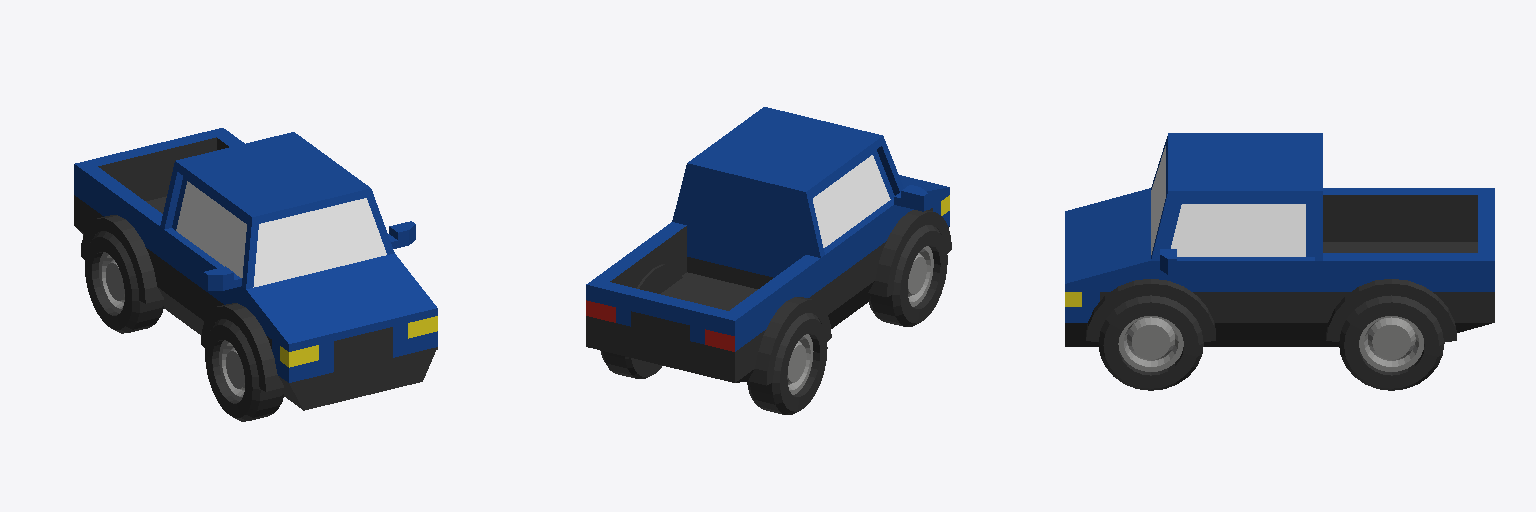
The model's file is pickup_truck_blue.obj.
3 renders of one model, left to right at view 1: azimuth 30°, elevation 25°; view 2: azimuth 150°, elevation 25°; view 3: azimuth 270°, elevation 25°, orthographic.
Visible parts, largest first — view 1: mergedBlocks; view 2: mergedBlocks; view 3: mergedBlocks.
Part boxes in pixels (x1,y1,x2,y2): mergedBlocks: (74,128,437,421); mergedBlocks: (586,107,951,414); mergedBlocks: (1065,133,1494,390).
Size of the model in its own units: 1.4 by 1.21 by 2.5.